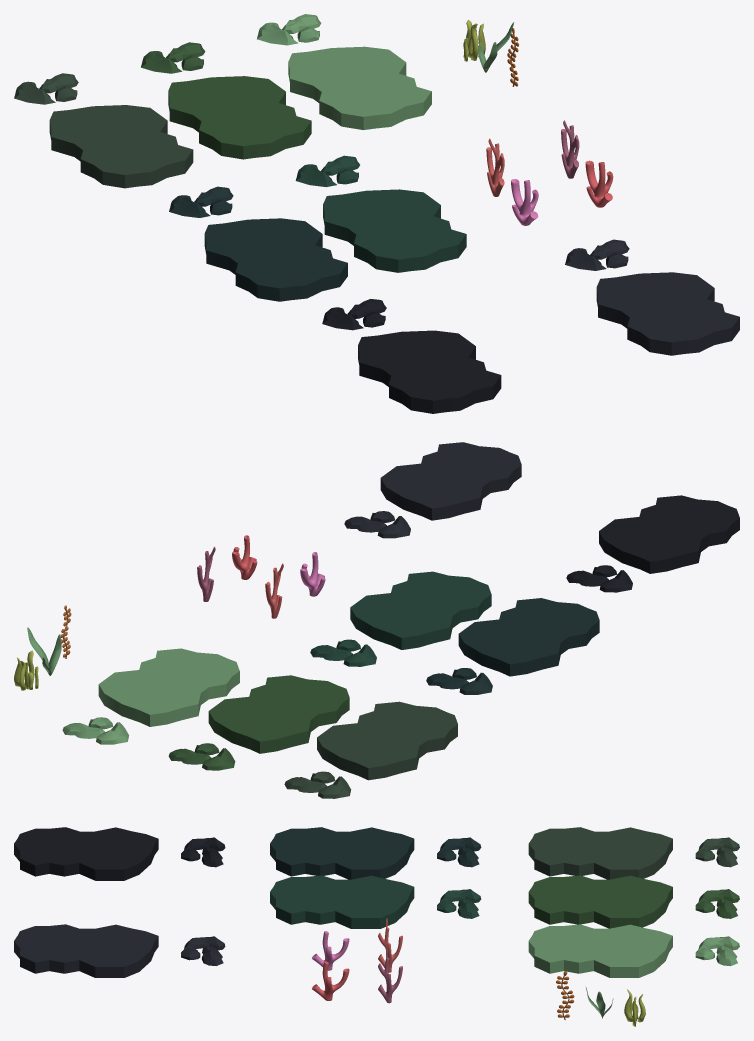
Rendered from Map_assets.fbx.
3 views of the same model, one above another, from view 1: azimuth 30°, elevation 25°; view 2: azimuth 150°, elevation 25°; view 3: azimuth 270°, elevation 25° (orthographic). The views are drawn at different scales.
Parts seen in each view (by area): view 1: Light_bottom_base, Medium_bottom_base, Dark_top_base, Light_top_base, Medium_top_base, Light_middle_base, Dark_bottom_base, Coral_2.001, Coral_1.001, Coral_4.001, coral, Light_seagrass; view 2: Medium_top_base, Light_middle_base, Medium_bottom_base, Dark_top_base, Light_top_base, Light_bottom_base, Dark_bottom_base, Light_seagrass, Coral_1.001, Coral_2.001; view 3: Dark_bottom_base, Light_top_base, Dark_top_base, Medium_top_base, Light_middle_base, Light_bottom_base, Medium_bottom_base, Coral_2.001, Coral_1.001, coral, Light_seagrass, Coral_4.001 (+15 smaller).
Boxes of the visible parts, bbox=[...] form: Light_bottom_base: bbox=[49, 105, 193, 188]; Medium_bottom_base: bbox=[204, 218, 347, 301]; Dark_top_base: bbox=[596, 272, 739, 355]; Light_top_base: bbox=[288, 46, 431, 129]; Medium_top_base: bbox=[323, 189, 466, 272]; Light_middle_base: bbox=[168, 76, 311, 159]; Dark_bottom_base: bbox=[358, 330, 501, 413]; Coral_2.001: bbox=[585, 160, 613, 207]; Coral_1.001: bbox=[511, 179, 538, 225]; Coral_4.001: bbox=[486, 138, 504, 196]; coral: bbox=[561, 120, 579, 178]; Light_seagrass: bbox=[463, 20, 485, 61]; Medium_top_base: bbox=[350, 571, 491, 649]; Light_middle_base: bbox=[208, 675, 349, 753]; Medium_bottom_base: bbox=[458, 598, 599, 676]; Dark_top_base: bbox=[380, 442, 521, 520]; Light_top_base: bbox=[98, 648, 239, 726]; Light_bottom_base: bbox=[317, 701, 457, 780]; Dark_bottom_base: bbox=[599, 495, 739, 573]; Light_seagrass: bbox=[14, 650, 38, 690]; Coral_1.001: bbox=[300, 552, 325, 596]; Coral_2.001: bbox=[232, 535, 257, 579]; Dark_bottom_base: bbox=[14, 827, 158, 880]; Light_top_base: bbox=[528, 924, 672, 977]; Dark_top_base: bbox=[14, 924, 158, 977]; Medium_top_base: bbox=[270, 875, 414, 928]; Light_middle_base: bbox=[528, 875, 672, 928]; Light_bottom_base: bbox=[528, 827, 672, 879]; Medium_bottom_base: bbox=[270, 827, 414, 879]; Coral_2.001: bbox=[312, 961, 349, 1000]; Coral_1.001: bbox=[312, 931, 349, 970]; coral: bbox=[378, 949, 402, 1003]; Light_seagrass: bbox=[624, 989, 645, 1026]; Coral_4.001: bbox=[378, 918, 402, 972].
Bounding box in the file's own units: 7007 × 918 × 11864.
